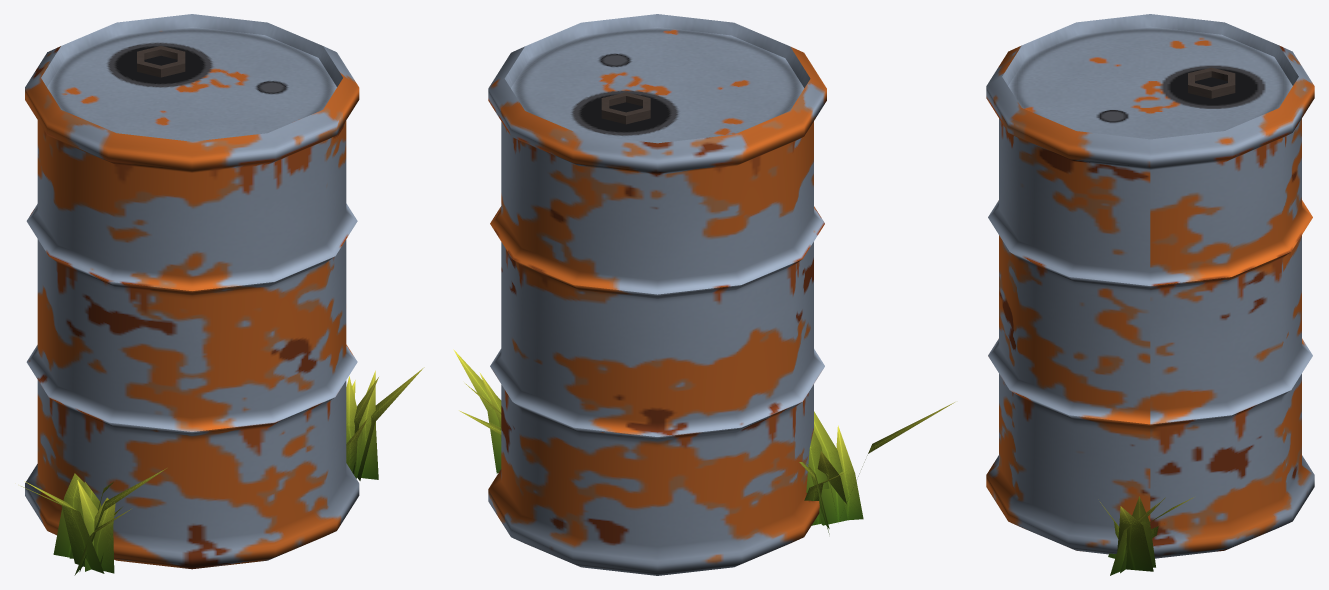
File: Barrel_Grey.fbx
The picture shows the model from 3 angles, left to right: view 1: azimuth 30°, elevation 25°; view 2: azimuth 150°, elevation 25°; view 3: azimuth 270°, elevation 25°; orthographic projection. The views are drawn at different scales.
Visible parts, largest first — view 1: Barrel_Grey_Body, Barrel_Grey_Grass; view 2: Barrel_Grey_Body, Barrel_Grey_Grass; view 3: Barrel_Grey_Body, Barrel_Grey_Grass.
Boxes of the visible parts, <box> form: Barrel_Grey_Body: <box>25,14,359,569</box>; Barrel_Grey_Grass: <box>21,367,424,575</box>; Barrel_Grey_Body: <box>488,14,826,575</box>; Barrel_Grey_Grass: <box>453,349,954,534</box>; Barrel_Grey_Body: <box>986,14,1314,558</box>; Barrel_Grey_Grass: <box>1100,496,1193,575</box>.
Bounding box in the file's own units: 0.9794 × 0.88 × 0.624.
1 material, 1 textured.
